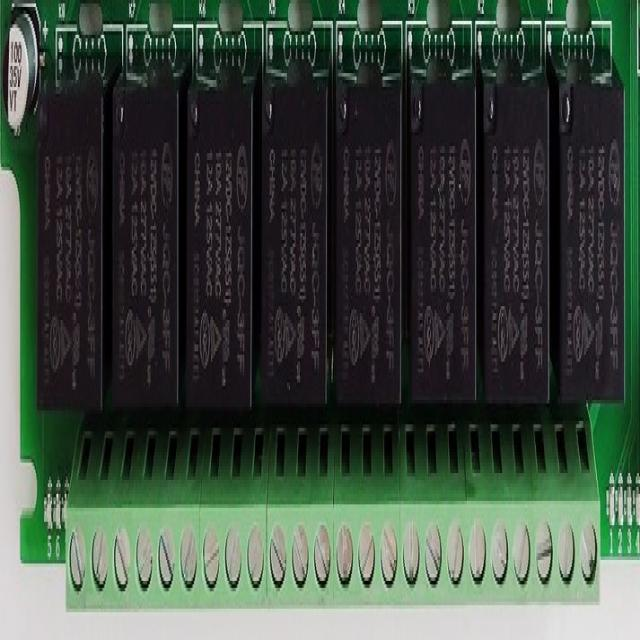capacitor 1V5: (2, 17, 32, 127)
connector -5v-: (63, 430, 602, 629)
relay: (554, 30, 629, 427), (406, 36, 481, 427), (479, 37, 554, 426), (336, 49, 404, 432), (261, 57, 330, 425), (184, 68, 256, 409), (112, 66, 180, 420), (35, 82, 105, 420)
